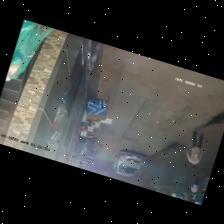person: (187, 129, 204, 168), (191, 177, 199, 193)
